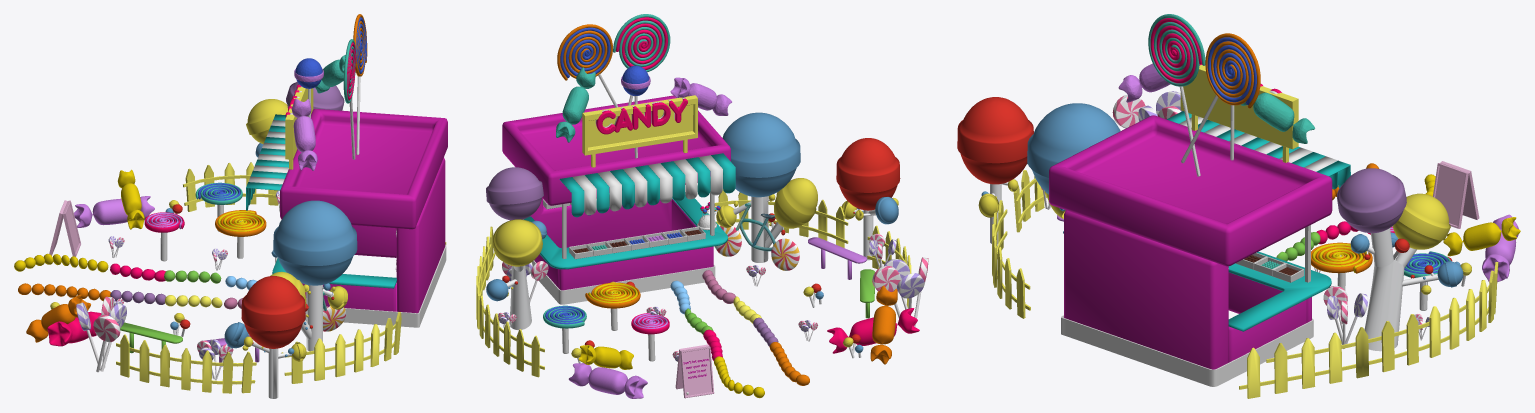
Rendered from obj_p1_decimate.fbx.
3 views of the same model, side by side, from view 1: azimuth 30°, elevation 25°; view 2: azimuth 150°, elevation 25°; view 3: azimuth 270°, elevation 25° (orthographic). The views are drawn at different scales.
Parts seen in each view (by area): view 1: struttura, staccionata3, pCylinder9, pCylinder1, sentiero, candies, pCylinder8, Cylinder.001, Cylinder.002, lolly_baby, bici; view 2: struttura, pCylinder9, pCylinder8, candies, pCylinder1, staccionata3, sentiero, bici, Cylinder.001, lolly_baby, Cylinder.005, Cylinder.002; view 3: struttura, pCylinder8, staccionata3, pCylinder1, pCylinder9, candies, Cylinder.001, Cylinder.005, sentiero.
Part boxes in pixels (left/top/right/bottom): struttura: left=49, top=14, right=447, bottom=366; staccionata3: left=116, top=162, right=446, bottom=393; pCylinder9: left=270, top=200, right=357, bottom=351; pCylinder1: left=224, top=276, right=306, bottom=398; sentiero: left=14, top=253, right=257, bottom=309; candies: left=26, top=169, right=154, bottom=346; pCylinder8: left=246, top=82, right=344, bottom=157; Cylinder.001: left=76, top=296, right=126, bottom=372; Cylinder.002: left=197, top=339, right=233, bottom=380; lolly_baby: left=50, top=200, right=277, bottom=336; bici: left=305, top=291, right=345, bottom=331; struttura: left=502, top=14, right=874, bottom=398; pCylinder9: left=716, top=112, right=817, bottom=262; pCylinder8: left=486, top=167, right=547, bottom=330; candies: left=568, top=285, right=919, bottom=398; pCylinder1: left=836, top=138, right=900, bottom=260; staccionata3: left=476, top=189, right=911, bottom=377; sentiero: left=670, top=270, right=809, bottom=398; bici: left=714, top=203, right=799, bottom=270; Cylinder.001: left=872, top=257, right=928, bottom=327; lolly_baby: left=571, top=281, right=863, bottom=363; Cylinder.005: left=502, top=261, right=548, bottom=302; Cylinder.002: left=869, top=233, right=896, bottom=268; struttura: left=1049, top=14, right=1479, bottom=386; pCylinder8: left=1337, top=168, right=1463, bottom=351; staccionata3: left=992, top=170, right=1498, bottom=398; pCylinder1: left=957, top=97, right=1033, bottom=244; pCylinder9: left=1027, top=103, right=1120, bottom=233; candies: left=1443, top=214, right=1520, bottom=282; Cylinder.001: left=1112, top=91, right=1182, bottom=128; Cylinder.005: left=1323, top=286, right=1367, bottom=348; sentiero: left=1276, top=163, right=1435, bottom=261.
Bounding box in the file's own units: 497 × 303 × 491.
22 materials, 4 textured.
